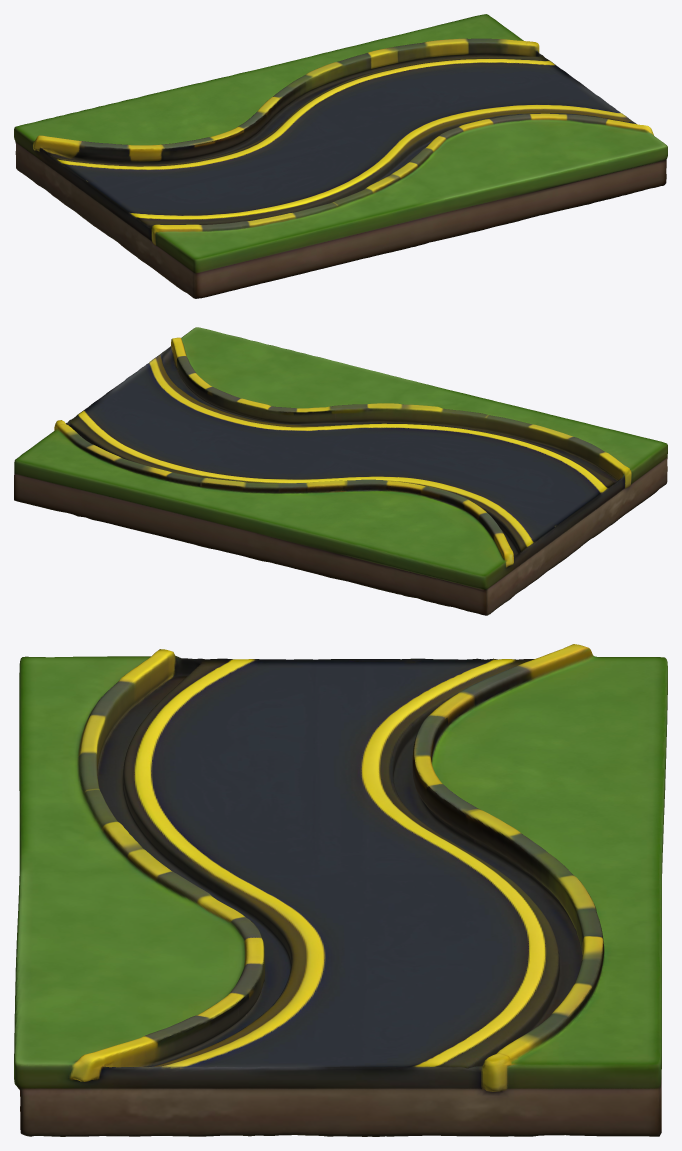
Rendered from curved_road_segment_3d_model.fbx.
3 views of the same model, one above another, from view 1: azimuth 30°, elevation 25°; view 2: azimuth 150°, elevation 25°; view 3: azimuth 270°, elevation 25° (orthographic). The views are drawn at different scales.
Parts seen in each view (by area): view 1: tripo_node_c86f449f; view 2: tripo_node_c86f449f; view 3: tripo_node_c86f449f.
Part boxes in pixels (x1=…): tripo_node_c86f449f: x1=14, y1=14, x2=667, y2=298; tripo_node_c86f449f: x1=14, y1=327, x2=667, y2=615; tripo_node_c86f449f: x1=14, y1=644, x2=667, y2=1136.
Bounding box in the file's own units: 0.9794 × 0.0941 × 0.6495.
